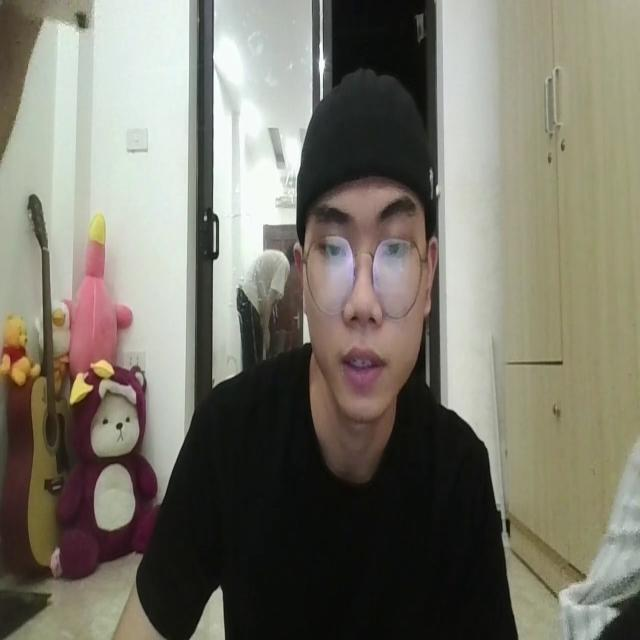student: (106, 57, 518, 640)
